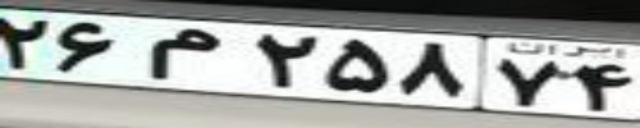2: (258, 33, 317, 88), (0, 16, 46, 69)
4: (571, 61, 631, 111)
5: (325, 38, 387, 93)
6: (54, 20, 115, 71)
7: (498, 56, 559, 106)
8: (402, 42, 462, 96)
mim: (147, 27, 224, 80)
